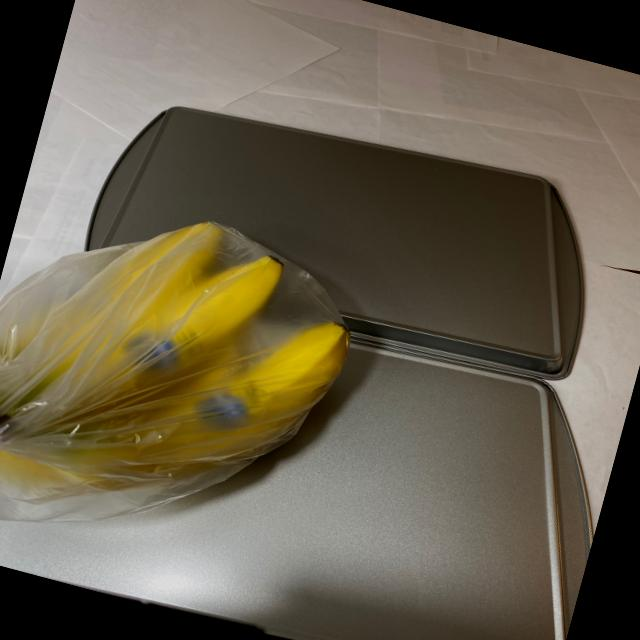banana: (0, 168, 379, 569)
